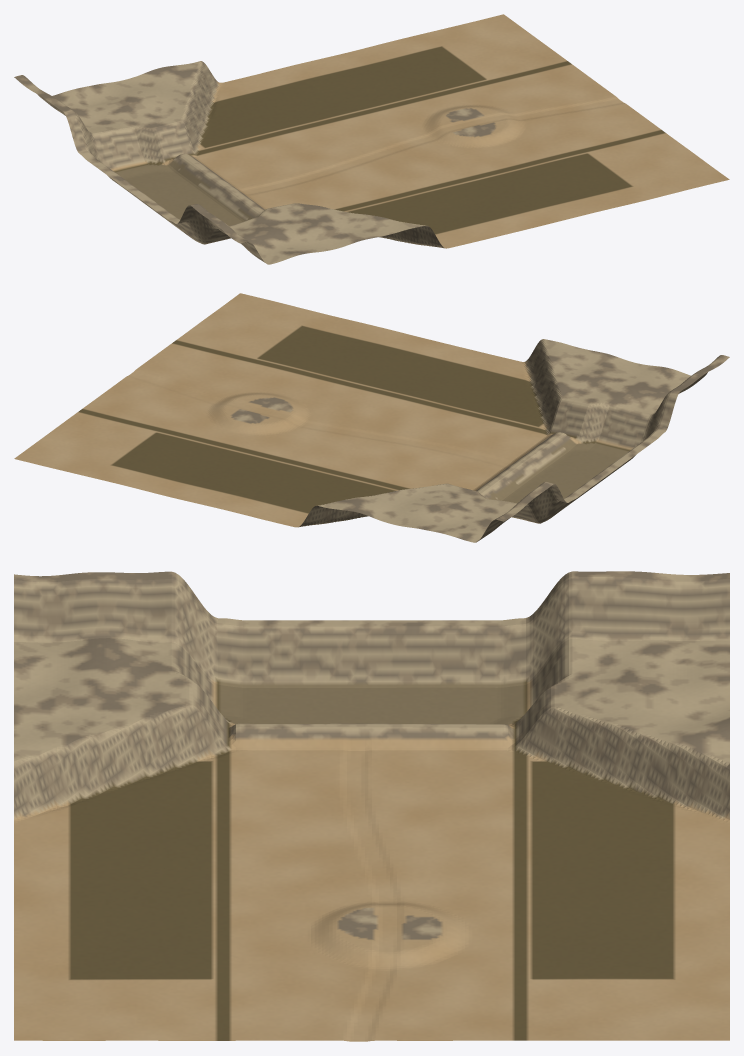
File: terrain.glb
3 views of the same model, one above another, from view 1: azimuth 30°, elevation 25°; view 2: azimuth 150°, elevation 25°; view 3: azimuth 270°, elevation 25° (orthographic). The views are drawn at different scales.
Visible parts, largest first — view 1: Terrain_-3_1, Terrain_-4_1, Terrain_-2_2, Terrain_1_-1, Terrain_-2_1, Terrain_-3_-3, Terrain_-3_2, Terrain_2_1, Terrain_2_-3, Terrain_2_-2, Terrain_1_-2, Terrain_-3_0 (+49 smaller); view 2: Terrain_-3_-2, Terrain_-4_-2, Terrain_-2_-3, Terrain_1_0, Terrain_-2_-2, Terrain_1_1, Terrain_1_-2, Terrain_2_2, Terrain_-1_-3, Terrain_1_2, Terrain_-3_-1, Terrain_1_-3 (+49 smaller); view 3: Terrain_-4_2, Terrain_-4_1, Terrain_-4_-2, Terrain_-4_-3, Terrain_-2_-3, Terrain_-4_0, Terrain_-4_-1, Terrain_-2_2, Terrain_-2_-2, Terrain_-2_1, Terrain_2_0, Terrain_-3_-2 (+52 smaller).
Part boxes in pixels (<box>): Terrain_-3_1: <box>118,108,213,177</box>; Terrain_-4_1: <box>56,105,152,182</box>; Terrain_-2_2: <box>143,68,239,127</box>; Terrain_1_-1: <box>433,123,529,167</box>; Terrain_-2_1: <box>180,105,275,160</box>; Terrain_-3_-3: <box>258,209,356,250</box>; Terrain_-3_2: <box>82,82,177,123</box>; Terrain_2_1: <box>423,60,520,100</box>; Terrain_2_-3: <box>566,163,661,204</box>; Terrain_2_-2: <box>530,137,625,178</box>; Terrain_1_-2: <box>468,152,564,193</box>; Terrain_-3_0: <box>153,159,249,202</box>; Terrain_-3_-2: <box>530,384,625,456</box>; Terrain_-4_-2: <box>591,386,687,462</box>; Terrain_-2_-3: <box>504,347,600,407</box>; Terrain_1_0: <box>214,402,310,446</box>; Terrain_-2_-2: <box>468,383,563,439</box>; Terrain_1_1: <box>179,431,275,472</box>; Terrain_1_-2: <box>284,354,381,395</box>; Terrain_2_2: <box>82,442,177,483</box>; Terrain_-1_-3: <box>443,353,538,398</box>; Terrain_1_2: <box>143,457,239,498</box>; Terrain_-3_-1: <box>494,437,590,481</box>; Terrain_1_-3: <box>320,328,417,368</box>; Terrain_-4_2: <box>594,571,708,667</box>; Terrain_-4_1: <box>483,571,597,711</box>; Terrain_-4_-2: <box>146,571,260,711</box>; Terrain_-4_-3: <box>35,572,149,665</box>; Terrain_-2_-3: <box>35,710,149,805</box>; Terrain_-4_0: <box>372,620,482,711</box>; Terrain_-4_-1: <box>261,620,371,711</box>; Terrain_-2_2: <box>594,713,708,805</box>; Terrain_-2_-2: <box>146,710,260,804</box>; Terrain_-2_1: <box>483,714,597,804</box>; Terrain_2_0: <box>372,939,482,994</box>; Terrain_-3_-2: <box>146,664,260,757</box>.
Size of the model in its own units: 1000 by 117 by 800.
